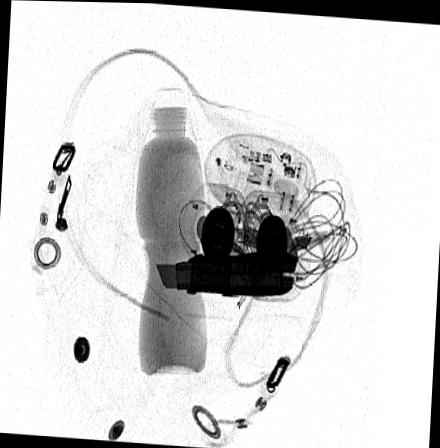Knife: (153, 250, 299, 297)
